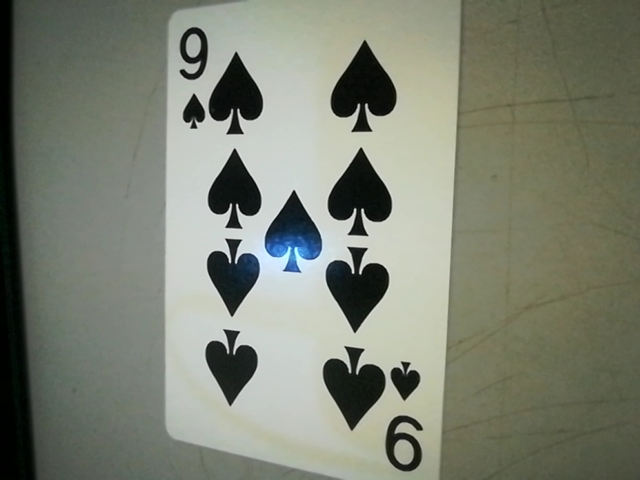ht 9: (375, 348, 438, 480), (165, 19, 218, 134)
